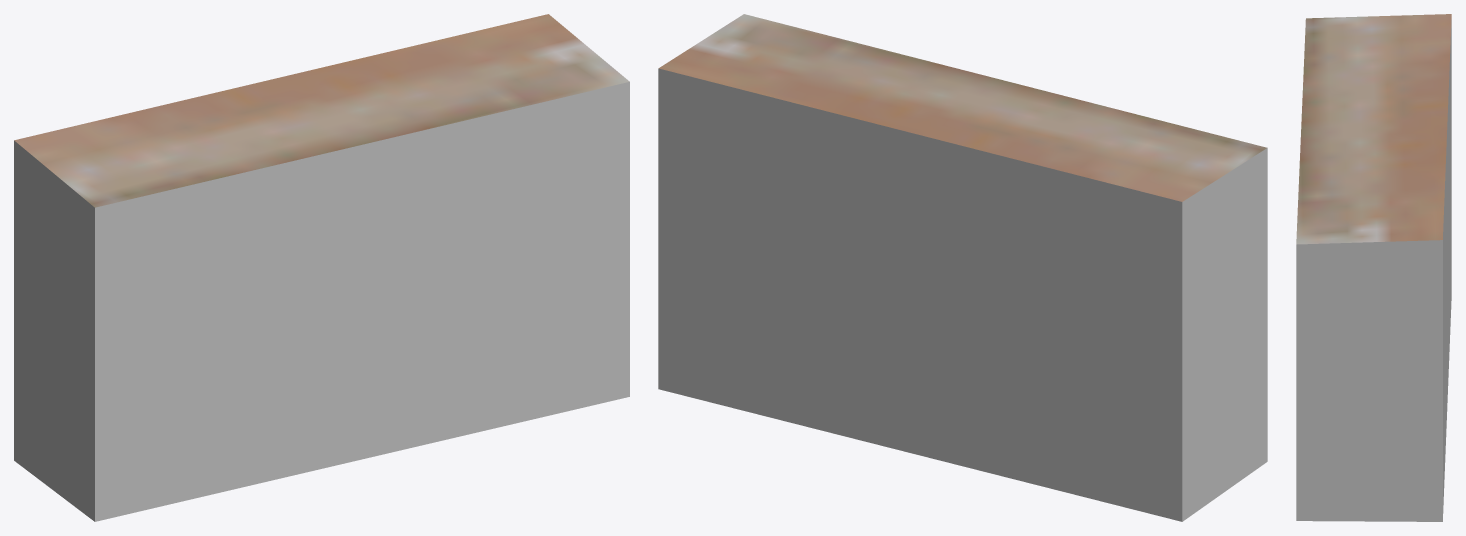
Rendered from DEBW_0010007THYV.gltf.
3 renders of one model, left to right at view 1: azimuth 30°, elevation 25°; view 2: azimuth 150°, elevation 25°; view 3: azimuth 270°, elevation 25°, orthographic. The views are drawn at different scales.
Visible parts, largest first — view 1: Z_UP; view 2: Z_UP; view 3: Z_UP.
Part boxes in pixels (x1,y1,x2,y2): Z_UP: (14,14,629,521); Z_UP: (658,14,1267,521); Z_UP: (1296,14,1451,521).
Bounding box in the file's own units: 7.28 × 4.2 × 2.1.
2 materials, 1 textured.
